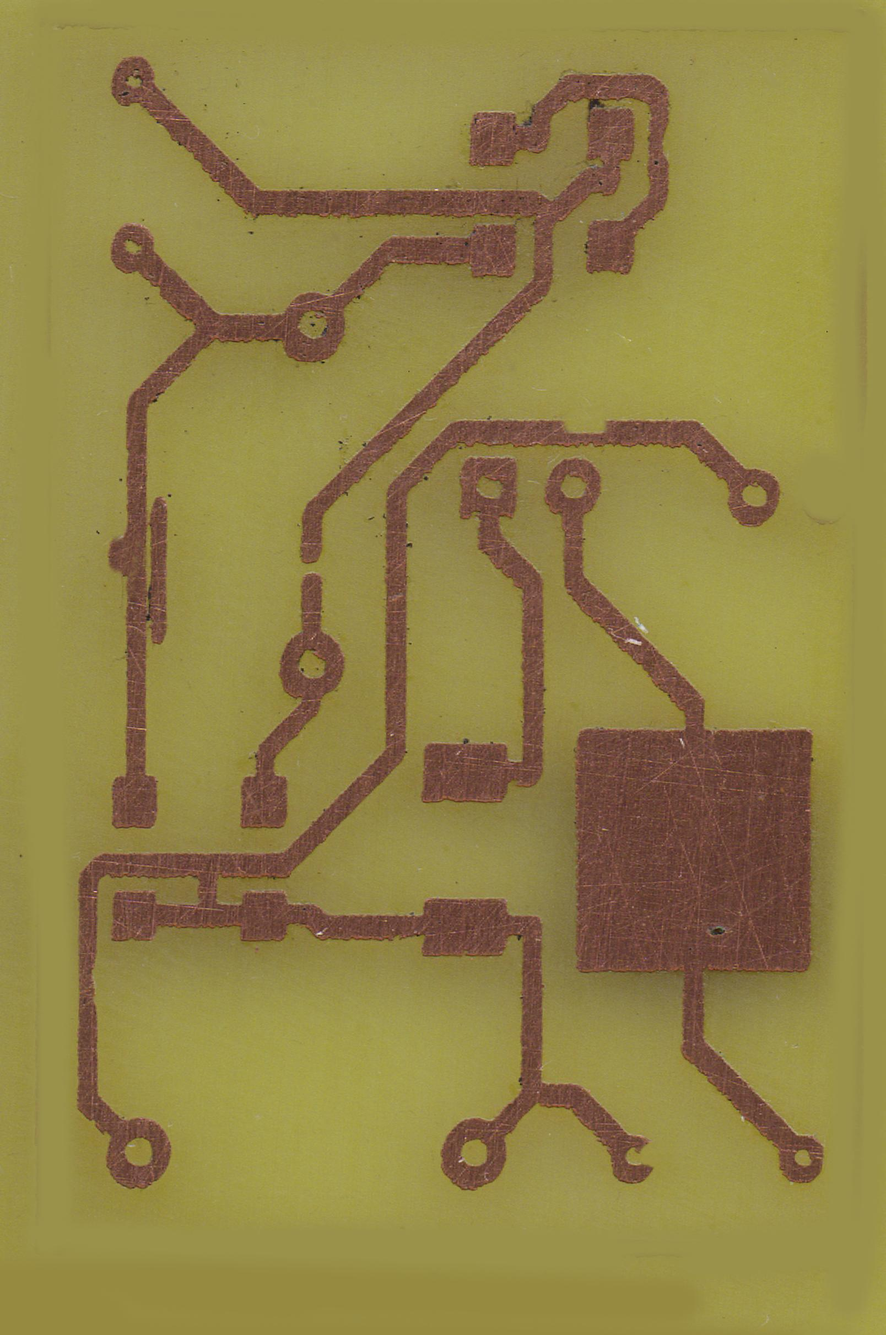missing_hole: (611, 1133, 657, 1185)
mouse_bite: (555, 416, 615, 445), (653, 120, 673, 168)
open_circuit: (299, 546, 325, 590)
short: (191, 852, 227, 928)
spur: (106, 529, 147, 581)
spurious_copper: (149, 495, 170, 647)
